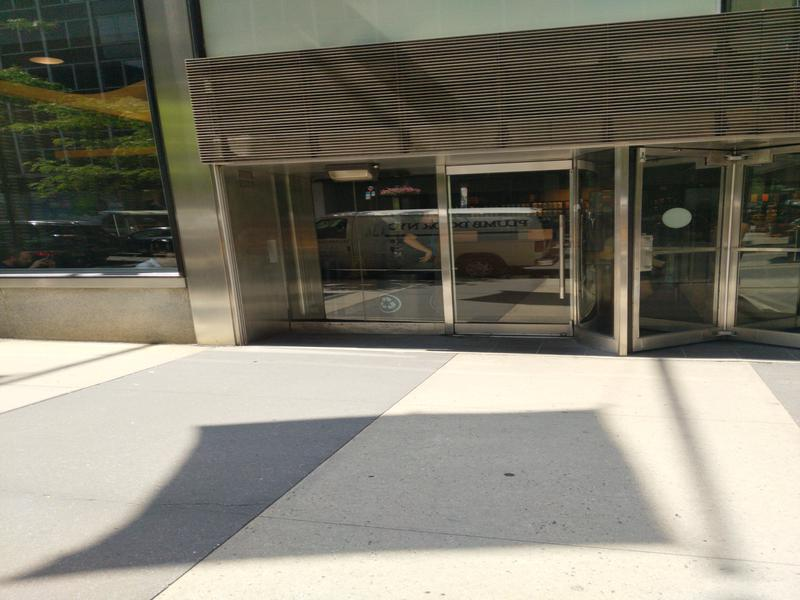door: (437, 151, 580, 342)
revolving_door: (623, 145, 800, 358)
